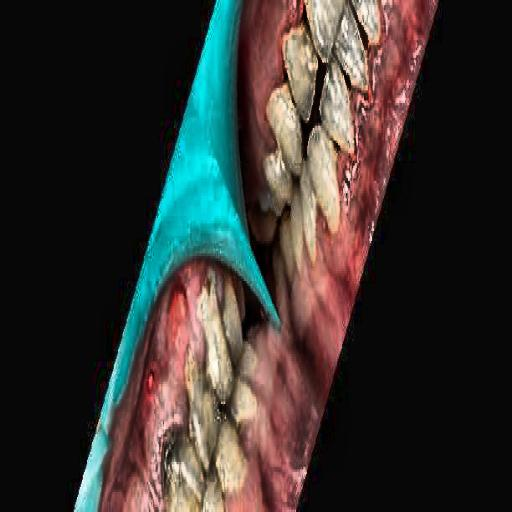Calculus: (257, 7, 367, 269), (160, 257, 267, 512)
